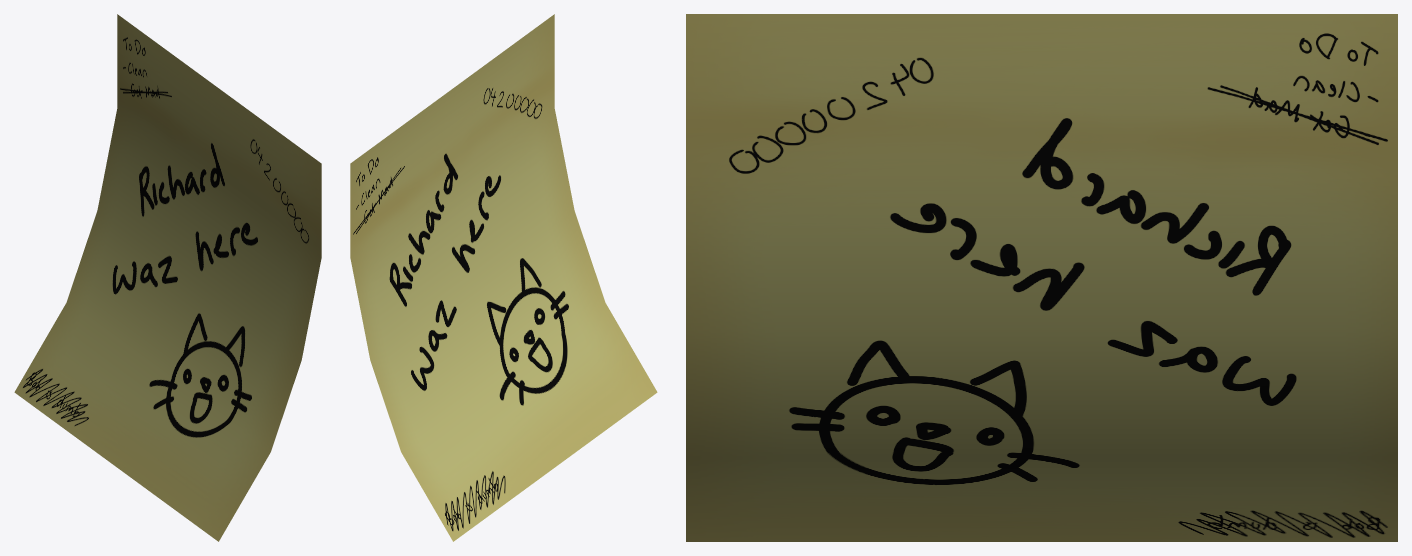
The model's file is StickyNote.fbx.
The picture shows the model from 3 angles, left to right: view 1: azimuth 30°, elevation 25°; view 2: azimuth 150°, elevation 25°; view 3: azimuth 270°, elevation 25°; orthographic projection. The views are drawn at different scales.
Parts seen in each view (by area): view 1: pStickyNote; view 2: pStickyNote; view 3: pStickyNote.
Boxes of the visible parts, x1=… form: pStickyNote: x1=14, y1=14, x2=321, y2=541; pStickyNote: x1=350, y1=14, x2=657, y2=541; pStickyNote: x1=686, y1=14, x2=1397, y2=541.
Size of the model in its own units: 0.2855 by 0.9368 by 0.9822.
